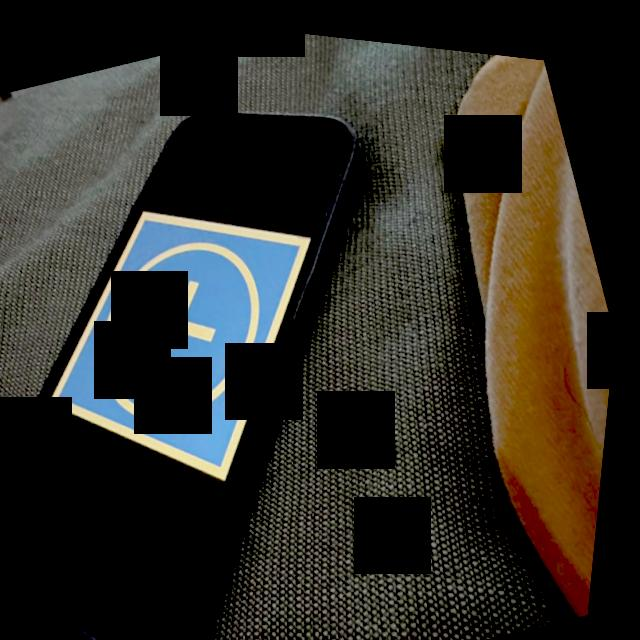Marker: (0, 139, 393, 538)
